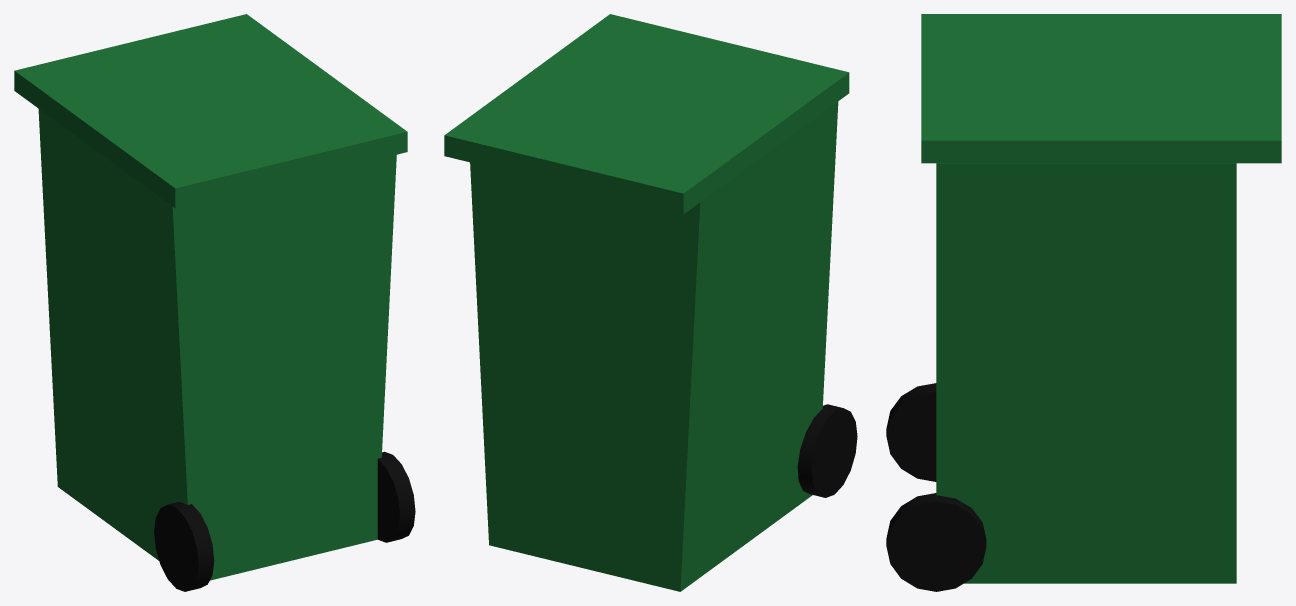
File: furniture.home.wheelie_bin.glb
3 views of the same model, side by side, from view 1: azimuth 30°, elevation 25°; view 2: azimuth 150°, elevation 25°; view 3: azimuth 270°, elevation 25° (orthographic). The views are drawn at different scales.
Parts seen in each view (by area): view 1: main__plastic_green, main__rubber; view 2: main__plastic_green, main__rubber; view 3: main__plastic_green, main__rubber.
Part boxes in pixels (x1,y1,x2,y2): main__plastic_green: [14, 14, 407, 580]; main__rubber: [154, 451, 415, 591]; main__plastic_green: [444, 14, 849, 591]; main__rubber: [797, 404, 857, 497]; main__plastic_green: [921, 14, 1281, 583]; main__rubber: [886, 383, 986, 591].
Bounding box in the file's own units: 0.6 × 1 × 0.79.
